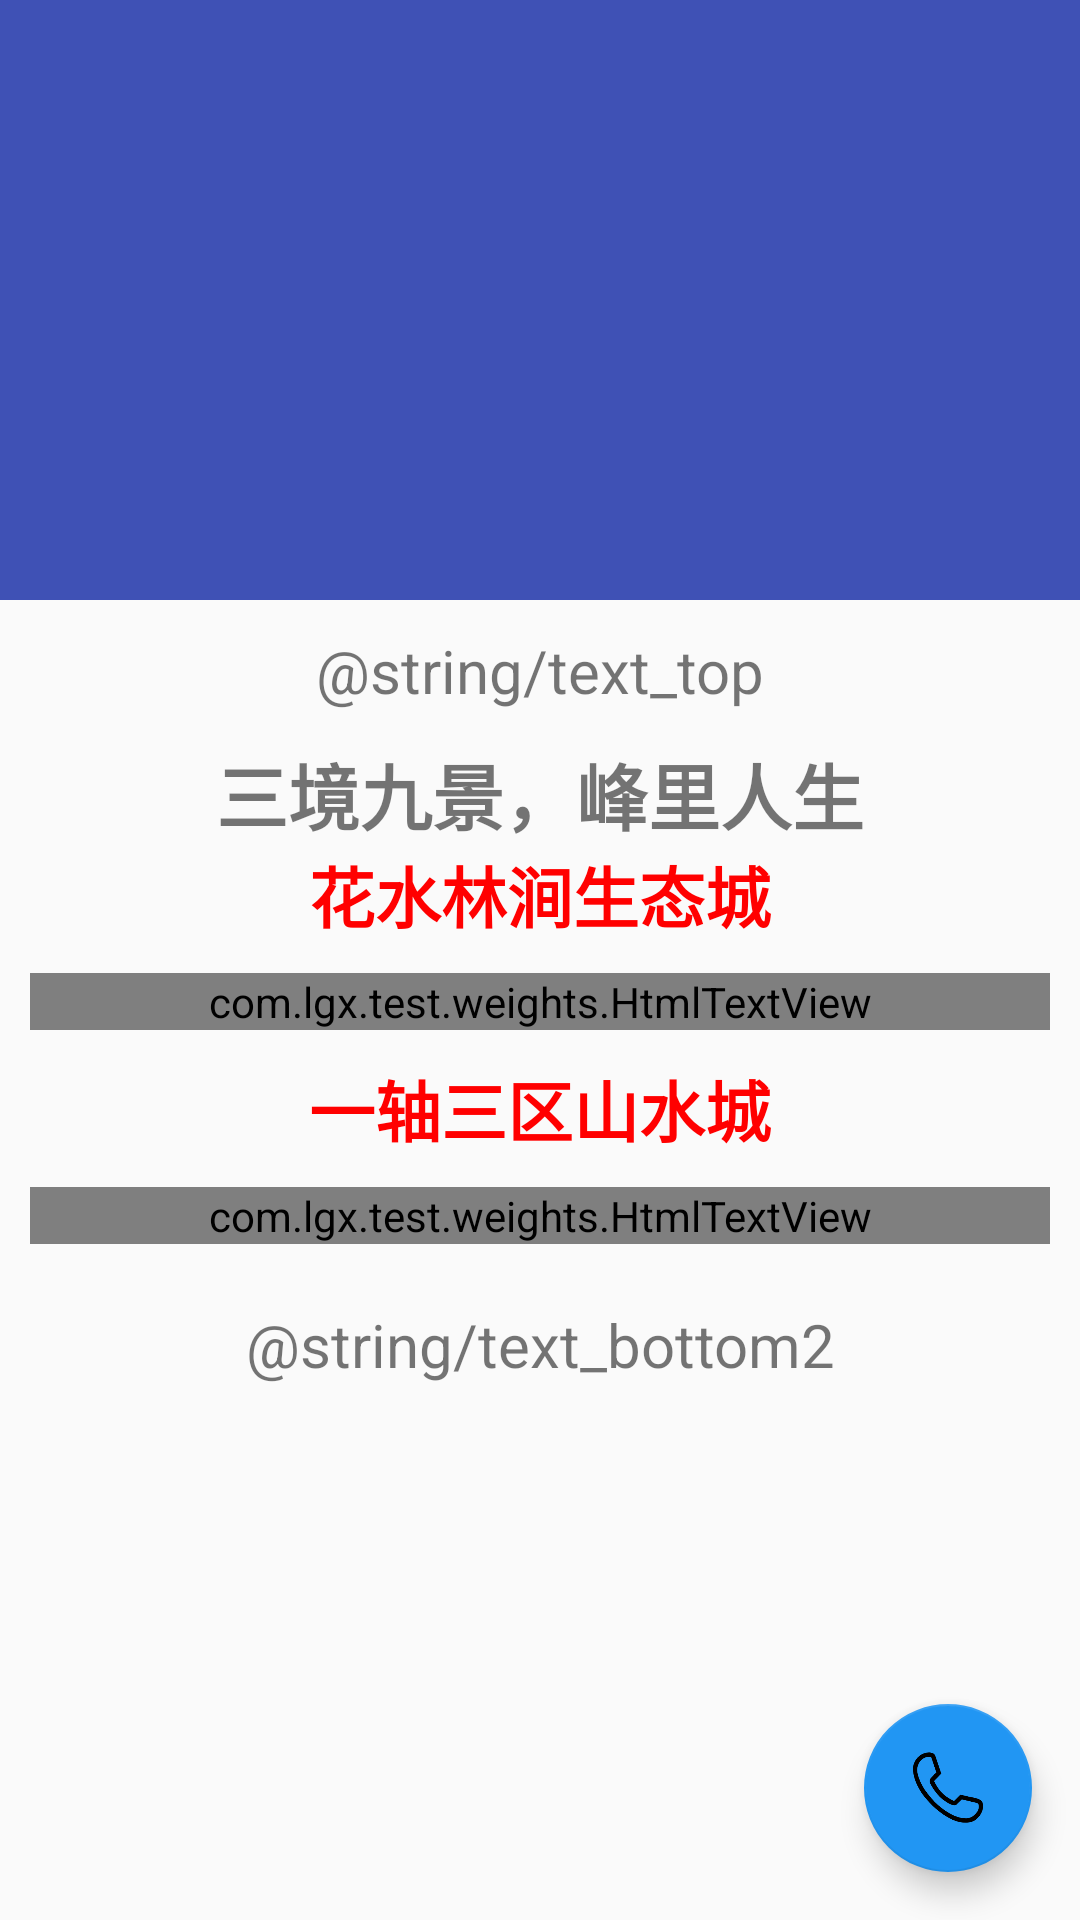

Where icons sit on this 1080 × 1920 app screen, as (x1=x1, y1=y1, x2=x2, y2=y2):
dial: (x1=864, y1=1704, x2=1032, y2=1872)
